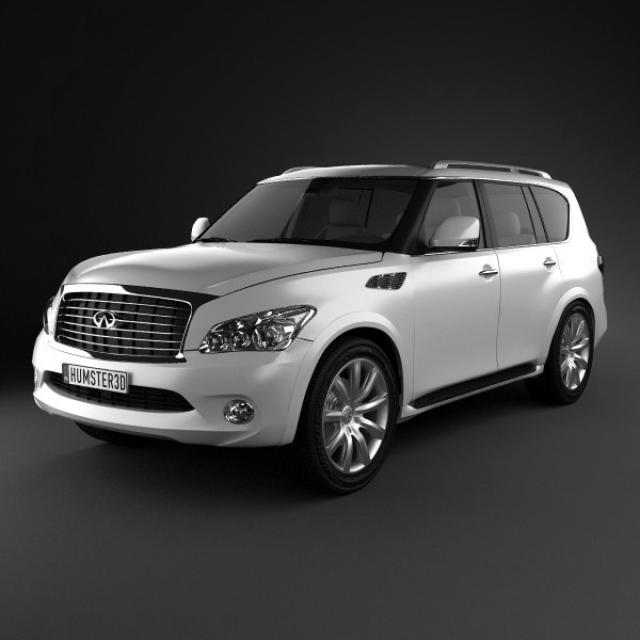car: (30, 158, 608, 495)
plat_license: (63, 362, 129, 393)
